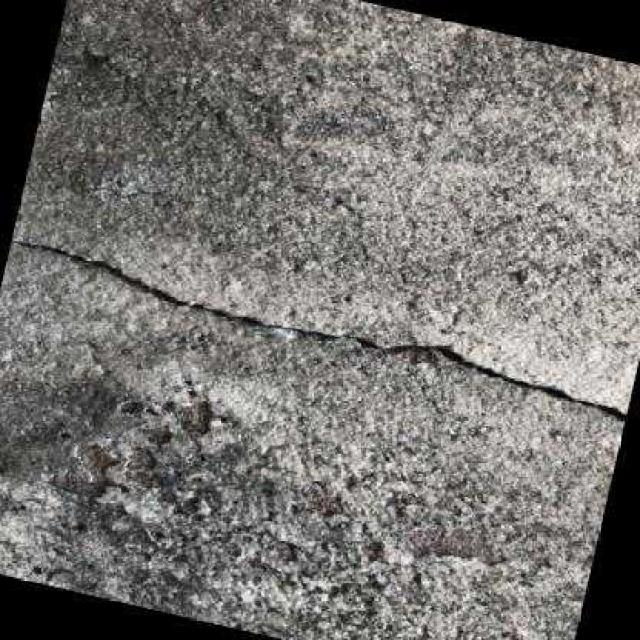D00: (9, 236, 628, 427)
